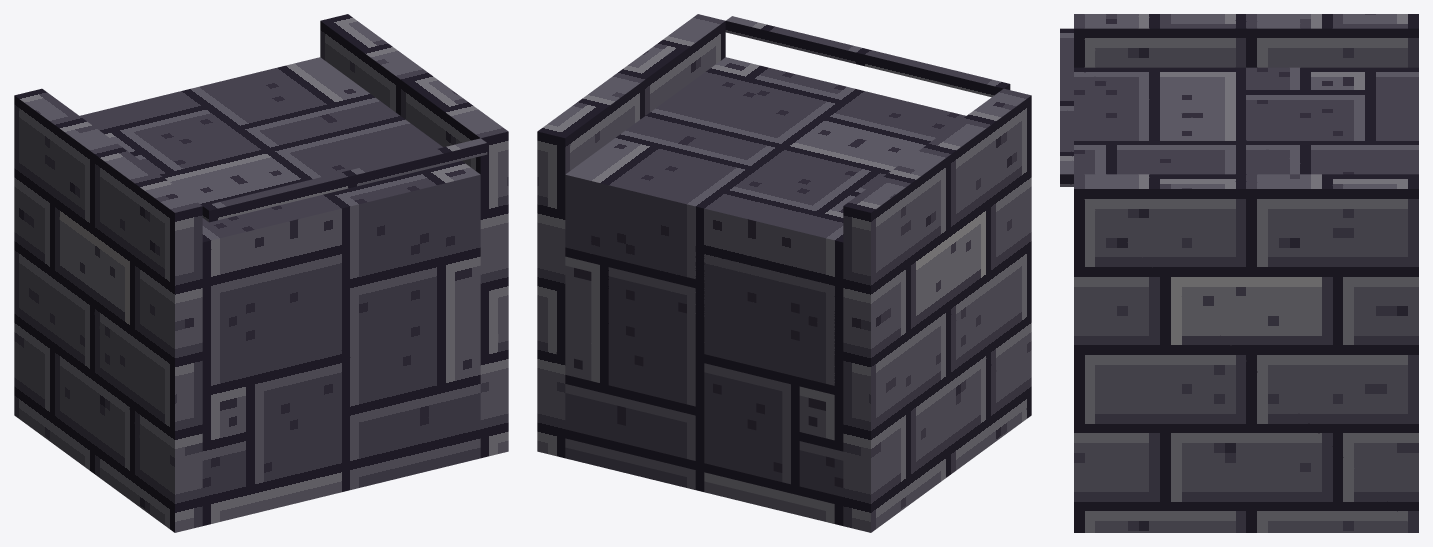
The model's file is stairs_down.glb.
3 renders of one model, left to right at view 1: azimuth 30°, elevation 25°; view 2: azimuth 150°, elevation 25°; view 3: azimuth 270°, elevation 25°, orthographic. The views are drawn at different scales.
Visible parts, largest first — view 1: step0, well_l, well_r, lip; view 2: step0, well_l, step3, step2, well_r, step1, step4, step5, step6, lip, step7; view 3: well_r, step0, well_l, lip.
Part boxes in pixels (left/top/right/bottom): step0: left=80, top=57, right=480, bottom=525; well_l: left=14, top=88, right=202, bottom=532; well_r: left=320, top=14, right=508, bottom=458; lip: left=202, top=138, right=487, bottom=222; step0: left=565, top=57, right=965, bottom=525; well_l: left=843, top=88, right=1031, bottom=532; step3: left=565, top=284, right=843, bottom=524; step2: left=565, top=248, right=843, bottom=524; well_r: left=537, top=14, right=725, bottom=458; step1: left=565, top=212, right=843, bottom=525; step4: left=565, top=331, right=843, bottom=522; step5: left=565, top=359, right=842, bottom=524; step6: left=565, top=393, right=842, bottom=525; lip: left=725, top=16, right=1010, bottom=97; step7: left=654, top=451, right=842, bottom=523; well_r: left=1074, top=174, right=1418, bottom=532; step0: left=1074, top=67, right=1418, bottom=174; well_l: left=1074, top=14, right=1418, bottom=67; lip: left=1060, top=28, right=1073, bottom=186.
Size of the model in its own units: 2.4 by 2.2 by 2.08.
2 materials, 2 textured.
